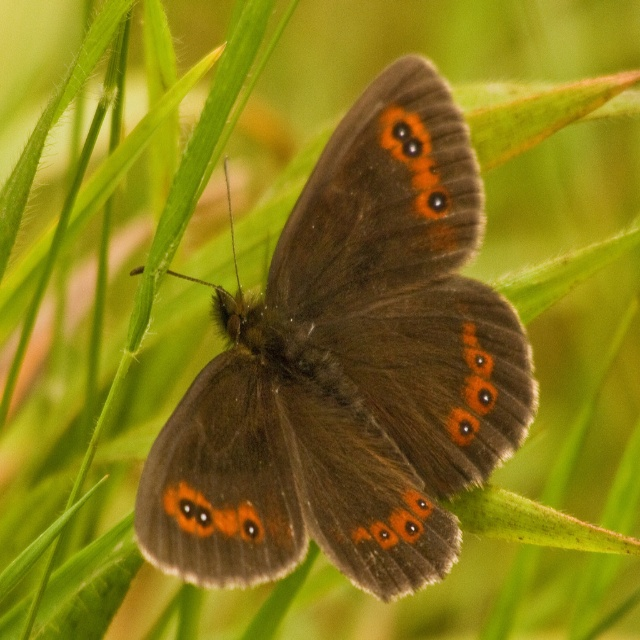Butterfly: (110, 34, 548, 640)
